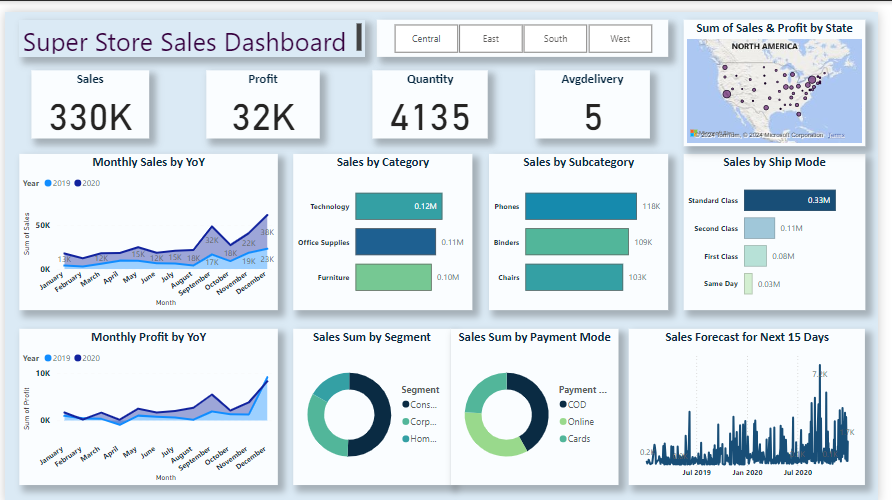

This screenshot's page, from the dashboard's own definition file:
{"tool":"powerbi","page":{"name":"Page 1","canvas":[1280,720],"ordinal":0},"visuals":[{"type":"clusteredBarChart","title":"Sales by Category","fields":{"Category":["SuperStore_Sales_Dataset.Category"],"Y":["Sum(SuperStore_Sales_Dataset.Sales)"]},"box":[422.6,208.1,262.9,229],"z":0},{"type":"clusteredBarChart","title":"Sales by Subcategory","fields":{"Category":["SuperStore_Sales_Dataset.Sub-Category"],"Y":["Sum(SuperStore_Sales_Dataset.Sales)"]},"box":[709.7,208.1,262.9,229],"z":1000},{"type":"clusteredBarChart","title":"Sales by Ship Mode","fields":{"Category":["SuperStore_Sales_Dataset.Ship Mode"],"Y":["Sum(SuperStore_Sales_Dataset.Sales)"]},"box":[995.2,208.1,266.1,229],"z":2000},{"type":"stackedAreaChart","title":"Monthly Sales by YoY","fields":{"Y":["Sum(SuperStore_Sales_Dataset.Sales)"],"Category":["SuperStore_Sales_Dataset.Order Date.Variation.Date Hierarchy.Month","SuperStore_Sales_Dataset.Order Date.Variation.Date Hierarchy.Day"],"Series":["SuperStore_Sales_Dataset.Order Date.Variation.Date Hierarchy.Year"]},"box":[21,208.1,379,229],"z":3000},{"type":"stackedAreaChart","title":"Monthly Profit by YoY","fields":{"Category":["SuperStore_Sales_Dataset.Order Date.Variation.Date Hierarchy.Month","SuperStore_Sales_Dataset.Order Date.Variation.Date Hierarchy.Day"],"Series":["SuperStore_Sales_Dataset.Order Date.Variation.Date Hierarchy.Year"],"Y":["Sum(SuperStore_Sales_Dataset.Profit)"]},"box":[21,464.5,379,229],"z":4000},{"type":"map","title":"Sum of Sales & Profit by State","fields":{"Category":["SuperStore_Sales_Dataset.State"],"Size":["Sum(SuperStore_Sales_Dataset.Sales)"]},"box":[995.2,11.3,266.1,185.5],"z":5000},{"type":"donutChart","title":"Sales Sum by Segment","fields":{"Category":["SuperStore_Sales_Dataset.Segment"],"Y":["Sum(SuperStore_Sales_Dataset.Sales)"]},"box":[422.6,464.5,230.6,229],"z":6000},{"type":"donutChart","title":"Sales Sum by Payment Mode","fields":{"Y":["Sum(SuperStore_Sales_Dataset.Sales)"],"Category":["SuperStore_Sales_Dataset.Payment Mode"]},"box":[653.2,464.5,246.8,229],"z":7000},{"type":"slicer","fields":{"Values":["SuperStore_Sales_Dataset.Region"]},"box":[545.2,11.3,427.4,54.8],"z":8000},{"type":"textbox","box":[21,11.3,506.5,54.8],"z":9000},{"type":"card","title":"Sales","fields":{"Values":["Sum(SuperStore_Sales_Dataset.Sales)"]},"box":[38.7,85.5,172.6,100],"z":10000},{"type":"card","title":"Quantity","fields":{"Values":["Sum(SuperStore_Sales_Dataset.Quantity)"]},"box":[538.7,85.5,169.4,100],"z":11000},{"type":"card","title":"Profit","fields":{"Values":["Sum(SuperStore_Sales_Dataset.Profit)"]},"box":[295.2,85.5,166.1,100],"z":12000},{"type":"card","title":"Avgdelivery","fields":{"Values":["Avg(SuperStore_Sales_Dataset.AvgDelivery)"]},"box":[777.4,85.5,167.7,100],"z":13000},{"type":"lineChart","title":"Sales Forecast for Next 15 Days","fields":{"Y":["Sum(SuperStore_Sales_Dataset.Sales)"],"Category":["SuperStore_Sales_Dataset.Order Date"]},"box":[914.5,464.5,346.8,229],"z":14000}]}

Visuals, with their boxes in screenshot pixels (x1, y1, x2, y2), scaled from the page's 1280x720 canvas onto the 892x500 screenshot:
"Sales by Category" clusteredBarChart: rect(294, 145, 478, 304)
"Sales by Subcategory" clusteredBarChart: rect(495, 145, 678, 304)
"Sales by Ship Mode" clusteredBarChart: rect(694, 145, 879, 304)
"Monthly Sales by YoY" stackedAreaChart: rect(15, 145, 279, 304)
"Monthly Profit by YoY" stackedAreaChart: rect(15, 323, 279, 482)
"Sum of Sales & Profit by State" map: rect(694, 8, 879, 137)
"Sales Sum by Segment" donutChart: rect(294, 323, 455, 482)
"Sales Sum by Payment Mode" donutChart: rect(455, 323, 627, 482)
slicer - SuperStore_Sales_Dataset.Region: rect(380, 8, 678, 46)
textbox: rect(15, 8, 368, 46)
"Sales" card: rect(27, 59, 147, 129)
"Quantity" card: rect(375, 59, 493, 129)
"Profit" card: rect(206, 59, 321, 129)
"Avgdelivery" card: rect(542, 59, 659, 129)
"Sales Forecast for Next 15 Days" lineChart: rect(637, 323, 879, 482)
